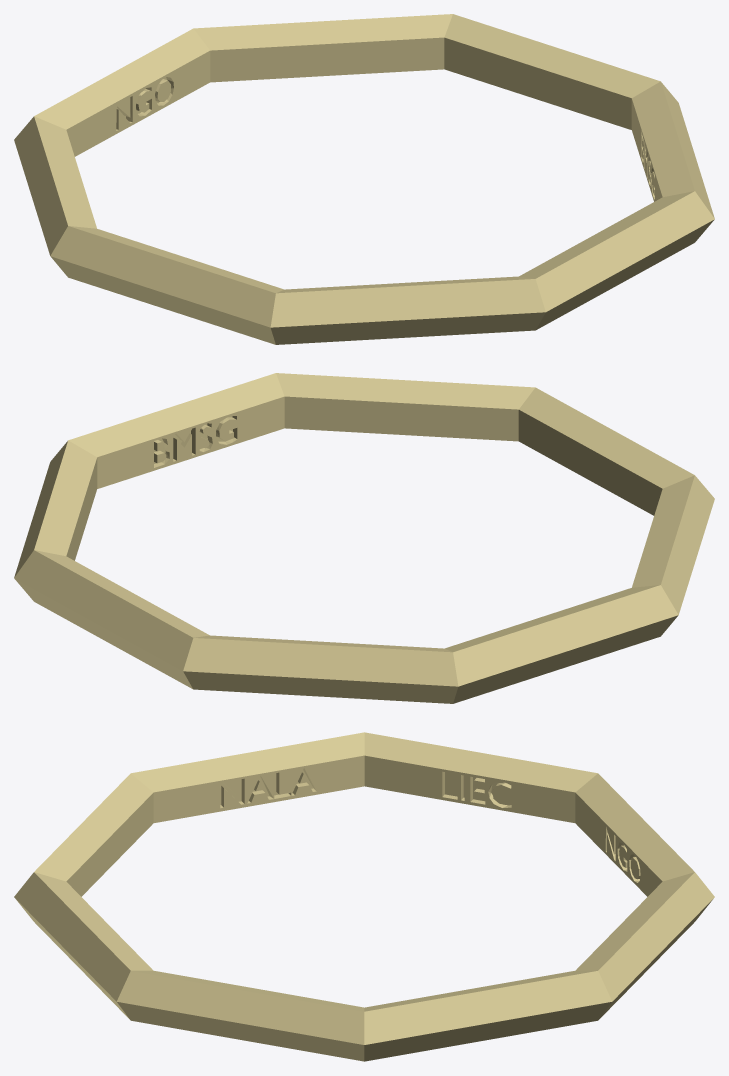
Rendered from nala-ring.glb.
3 views of the same model, one above another, from view 1: azimuth 30°, elevation 25°; view 2: azimuth 150°, elevation 25°; view 3: azimuth 270°, elevation 25° (orthographic). The views are drawn at different scales.
Visible parts, largest first — view 1: Ring; view 2: Ring; view 3: Ring.
Boxes of the visible parts, left/top/right/bottom form: Ring: left=14, top=14, right=714, bottom=344; Ring: left=14, top=373, right=714, bottom=703; Ring: left=14, top=732, right=714, bottom=1061.
Size of the model in its own units: 2.18 by 0.1713 by 2.18.
